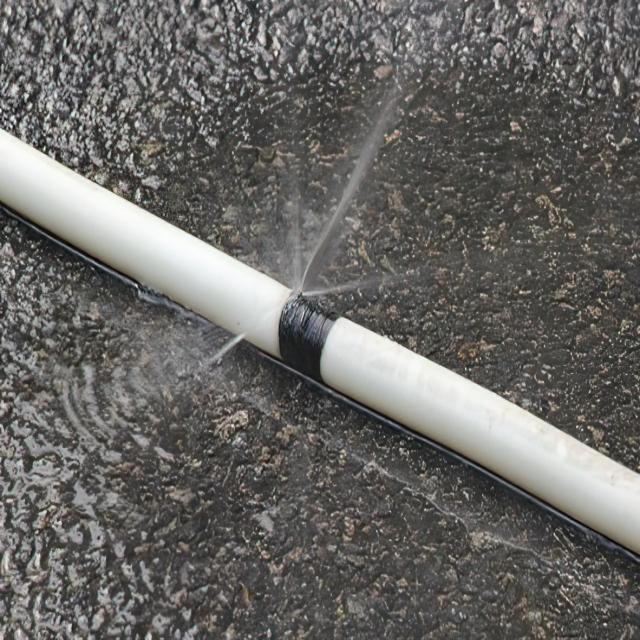leak: (285, 85, 400, 305)
